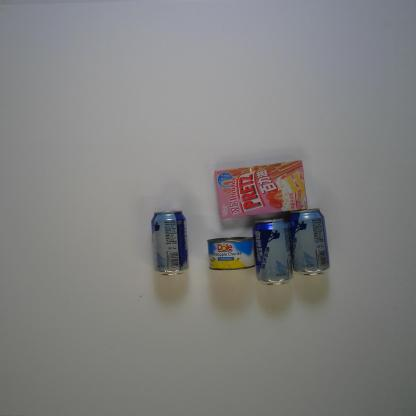Alcohol: (252, 218, 294, 286), (289, 209, 331, 276), (150, 208, 189, 278)
Canned Food: (206, 237, 257, 272)
Dessert: (214, 159, 308, 218)
